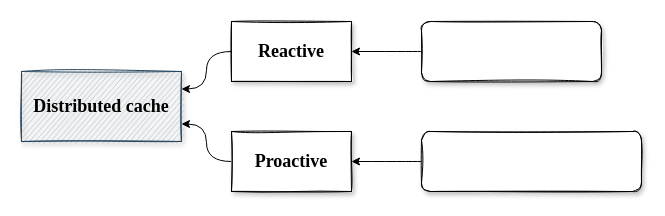
This 665x216 diagram has some shape labels left out. The centre of each missing label's shape, as x and y in pixels:
"Devided from predicted" goes at pixel 532 162.
"Users demand" goes at pixel 512 52.
